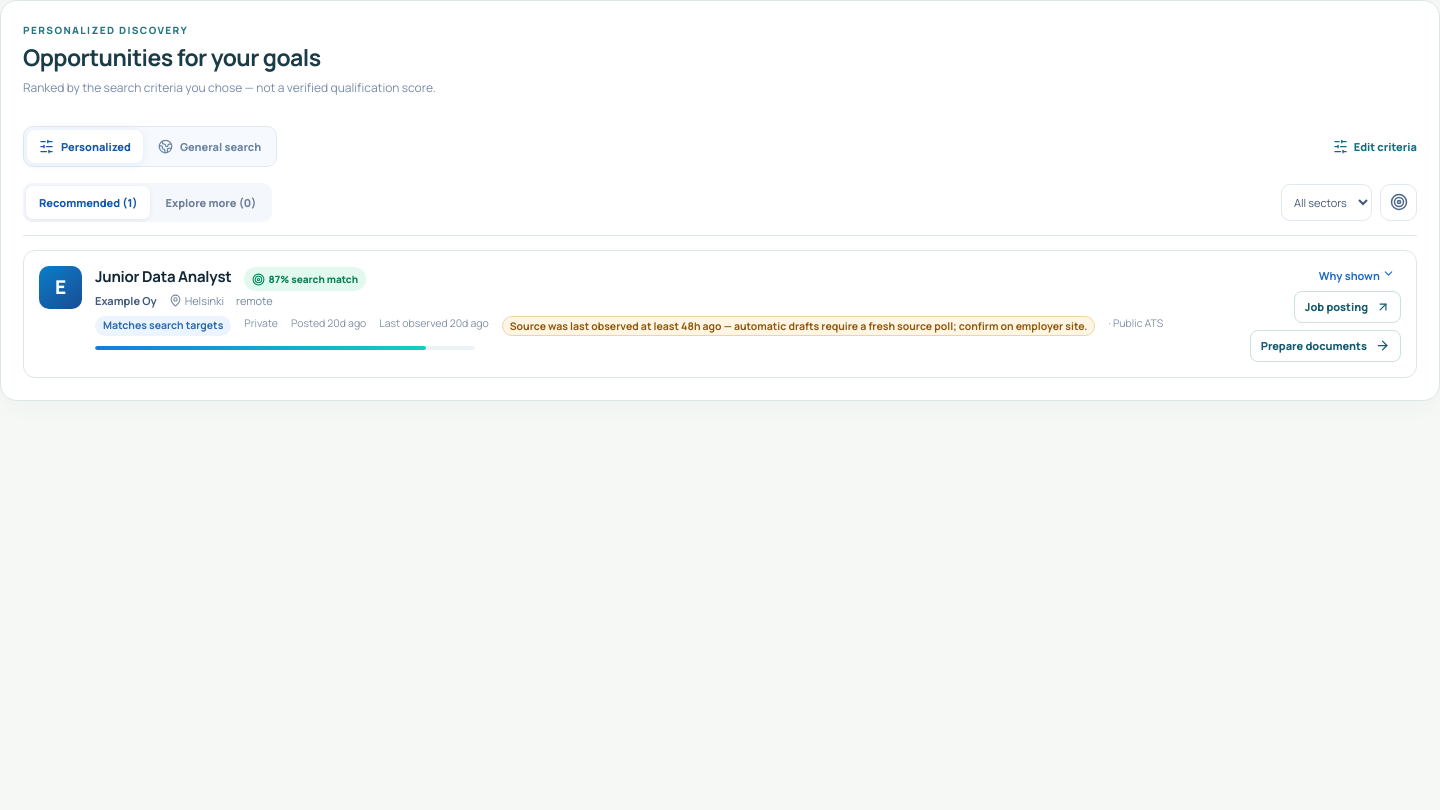
Test: job discovery mode semantics › separates observed mismatches from unknown fields in the explanation
What coordinates should you click on to do the following:
click the button "Why shown"
I would click on:
 (1357, 274)
Its box is [1313,266,1401,284].
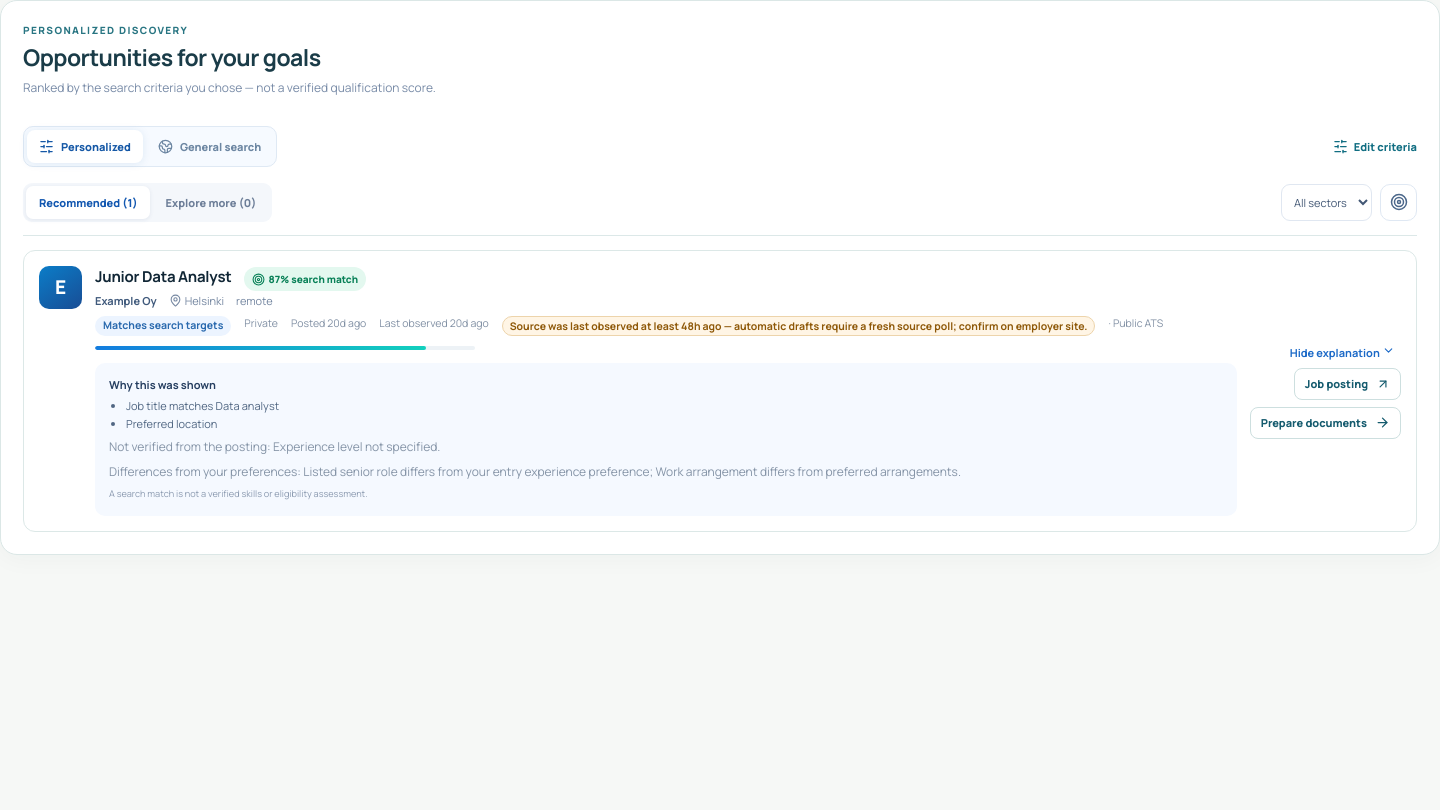
Check: the text "Differences from your preferences:" is shown, box [109,463,303,480]
Check: the text "Listed senior role differs" is shown, box [303,463,958,480]
Check: the text "Not verified from the posting:" is shown, box [109,438,273,454]
